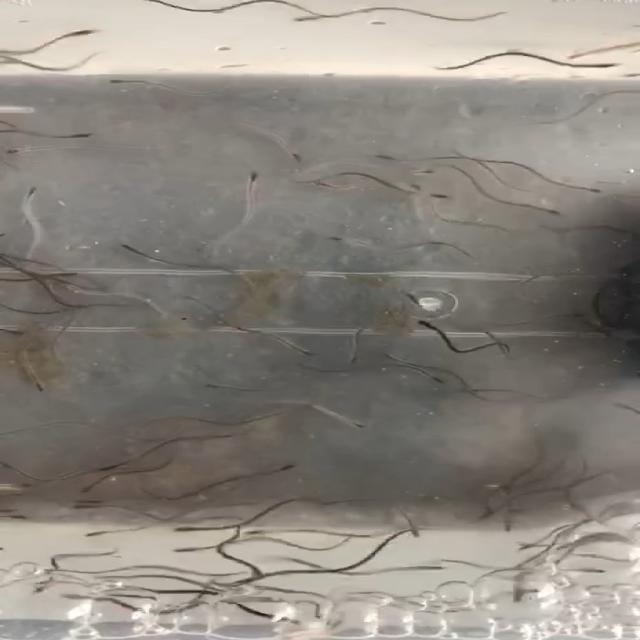active_glass_eel: (150, 519, 232, 546), (154, 539, 226, 565), (265, 338, 329, 367), (46, 126, 120, 149), (46, 21, 126, 41), (281, 150, 331, 182), (580, 54, 634, 83), (47, 526, 125, 546), (323, 414, 385, 439), (228, 161, 282, 189), (8, 175, 64, 202), (578, 169, 625, 200), (260, 454, 326, 476), (410, 365, 461, 393), (221, 522, 284, 544), (468, 516, 536, 536), (560, 561, 621, 581), (45, 495, 108, 514), (181, 423, 256, 438), (89, 73, 148, 92), (170, 377, 231, 395), (370, 152, 416, 174), (406, 314, 446, 339), (72, 481, 128, 497), (543, 199, 577, 225), (17, 382, 66, 400), (116, 233, 146, 260), (418, 187, 458, 206), (342, 354, 369, 370)
